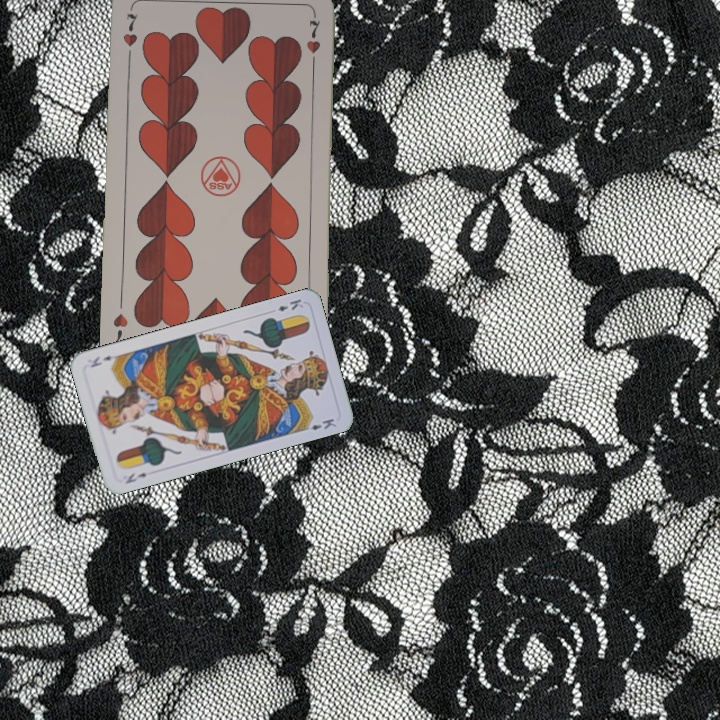EK: (273, 295, 306, 314), (121, 469, 149, 487)
H7: (118, 6, 140, 65)
